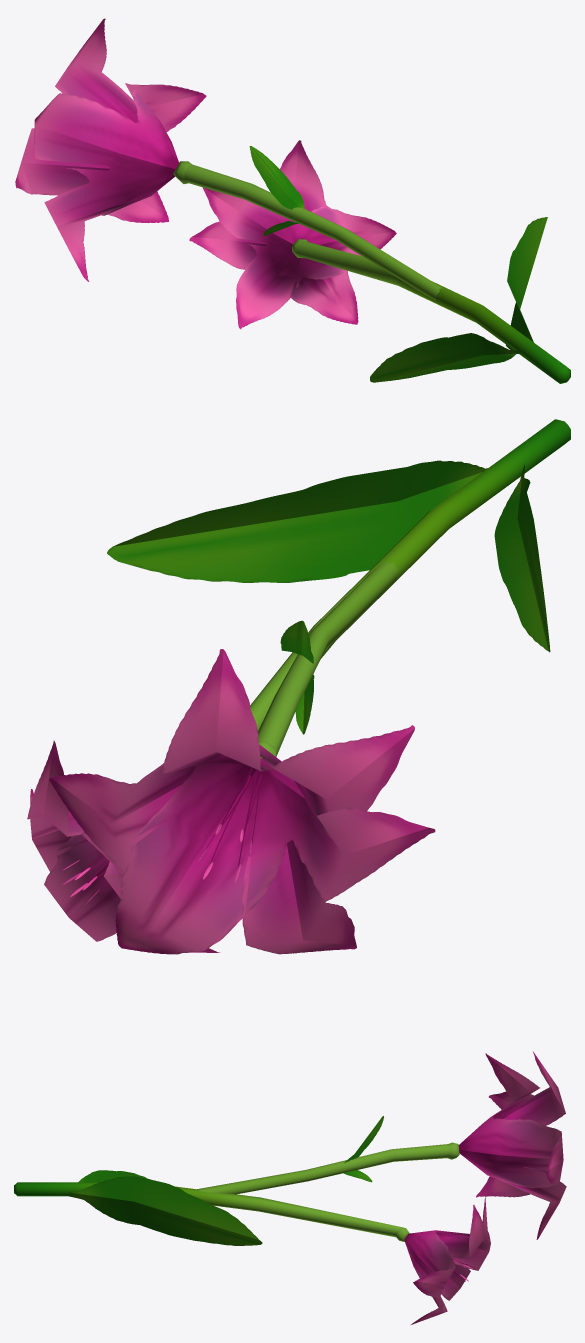
File: SM_Lilly_Pink_Two.fbx
3 renders of one model, top to bottom at view 1: azimuth 30°, elevation 25°; view 2: azimuth 150°, elevation 25°; view 3: azimuth 270°, elevation 25°, orthographic. The views are drawn at different scales.
Visible parts, largest first — view 1: Lilly_Pink_Two; view 2: Lilly_Pink_Two; view 3: Lilly_Pink_Two.
Boxes of the visible parts, box(x1,y1,x2,y2) form: Lilly_Pink_Two: box(15, 18, 570, 383); Lilly_Pink_Two: box(27, 419, 570, 954); Lilly_Pink_Two: box(14, 1051, 566, 1324).
Bounding box in the file's own units: 97.23 × 74.62 × 160.
